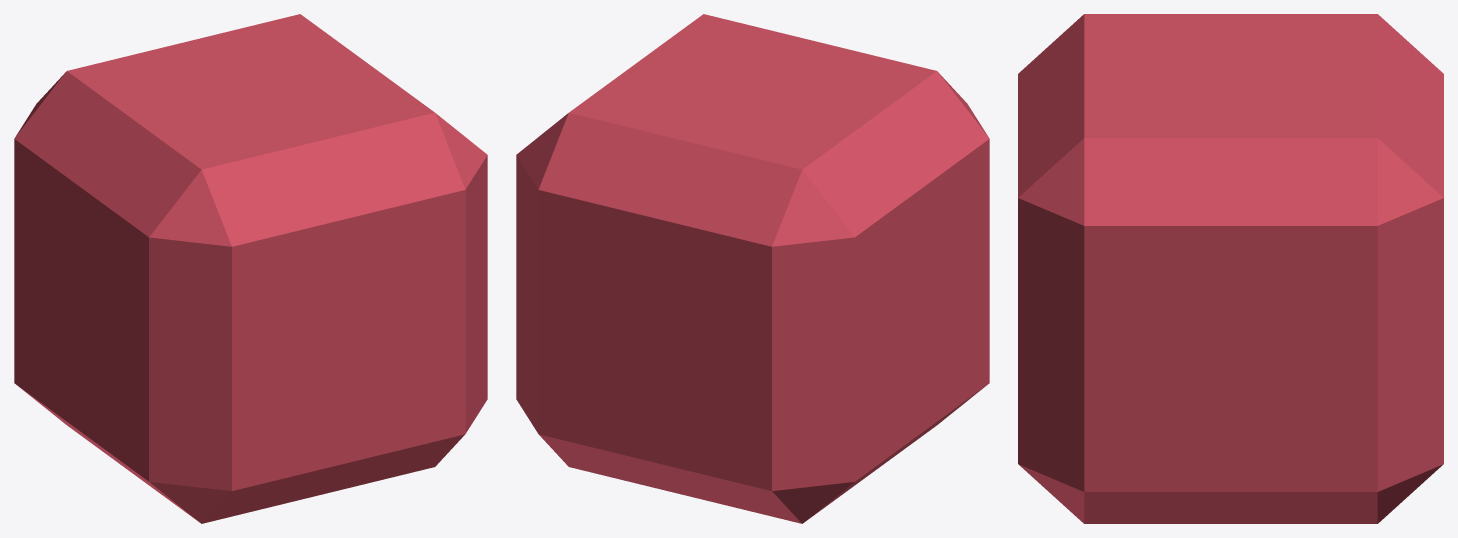
File: Fantastic Hillar-Kup (2).glb
3 views of the same model, side by side, from view 1: azimuth 30°, elevation 25°; view 2: azimuth 150°, elevation 25°; view 3: azimuth 270°, elevation 25° (orthographic). The views are drawn at different scales.
Parts seen in each view (by area): view 1: Mesh_Mesh_head_geo.001_lambert2SG.001; view 2: Mesh_Mesh_head_geo.001_lambert2SG.001; view 3: Mesh_Mesh_head_geo.001_lambert2SG.001.
Part boxes in pixels (x1,y1,x2,y2): Mesh_Mesh_head_geo.001_lambert2SG.001: (14,14,487,523); Mesh_Mesh_head_geo.001_lambert2SG.001: (516,14,989,523); Mesh_Mesh_head_geo.001_lambert2SG.001: (1018,14,1443,523).
Bounding box in the file's own units: 0.02 × 0.02 × 0.02.
